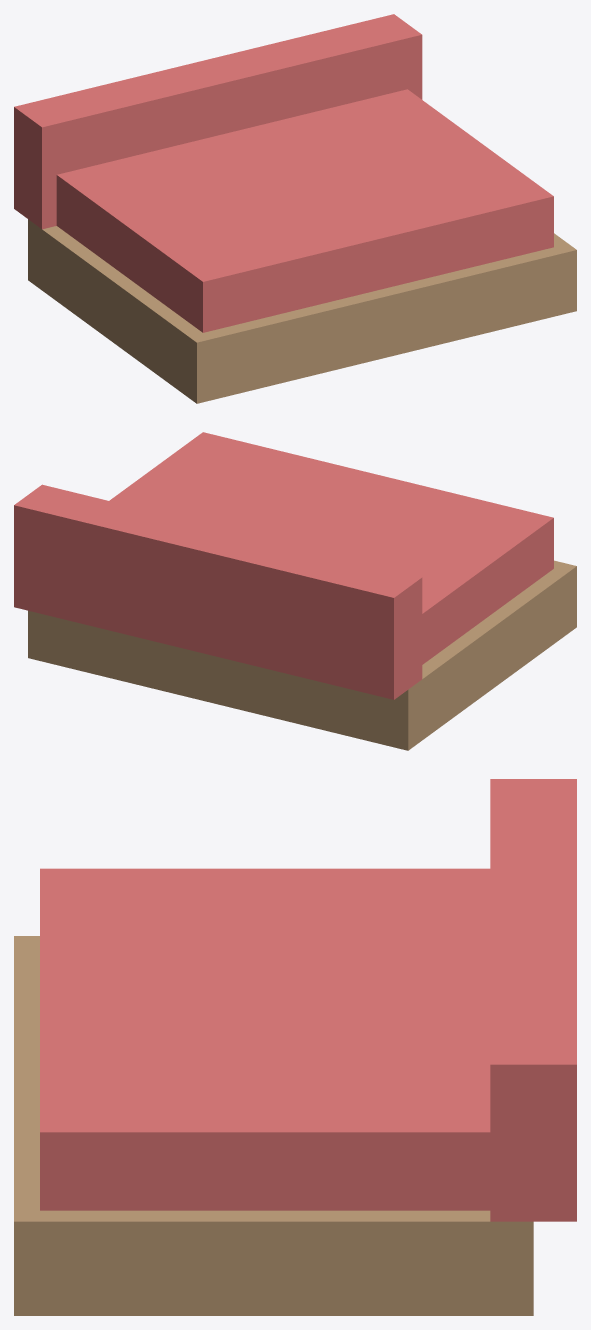
File: Prop_Pet_AMF_Bed_V1.glb
The picture shows the model from 3 angles, top to bottom: view 1: azimuth 30°, elevation 25°; view 2: azimuth 150°, elevation 25°; view 3: azimuth 270°, elevation 25°; orthographic projection. The views are drawn at different scales.
Visible parts, largest first — view 1: Prop_Pet_AMF_Bed_V1; view 2: Prop_Pet_AMF_Bed_V1; view 3: Prop_Pet_AMF_Bed_V1.
Part boxes in pixels (x1,y1,x2,y2): Prop_Pet_AMF_Bed_V1: (14,14,576,403); Prop_Pet_AMF_Bed_V1: (14,432,576,750); Prop_Pet_AMF_Bed_V1: (14,779,576,1315).
Size of the model in its own units: 0.78 by 0.32 by 0.65.
